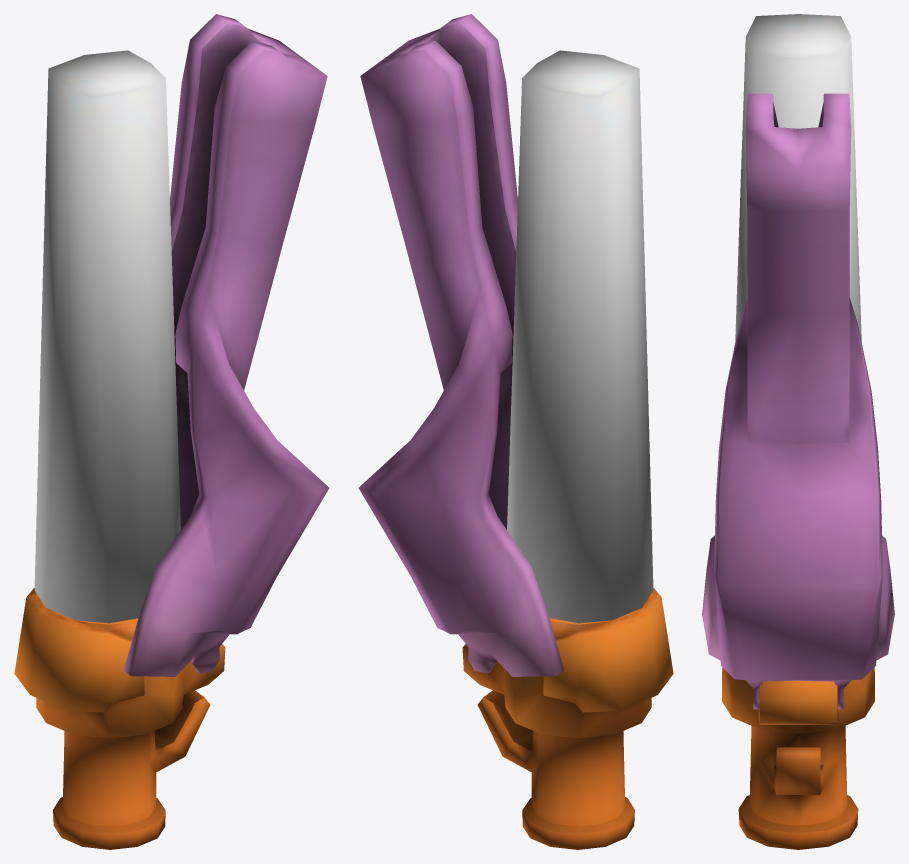
The model's file is safe_needle.fbx.
3 views of the same model, side by side, from view 1: azimuth 30°, elevation 25°; view 2: azimuth 150°, elevation 25°; view 3: azimuth 270°, elevation 25° (orthographic). The views are drawn at different scales.
Parts seen in each view (by area): view 1: Circle.007, Circle.008, Circle.006; view 2: Circle.007, Circle.008, Circle.006; view 3: Circle.007, Circle.006, Circle.008.
Boxes of the visible parts, x1=… form: Circle.007: x1=123, y1=14, x2=329, y2=676; Circle.008: x1=34, y1=50, x2=180, y2=623; Circle.006: x1=14, y1=588, x2=225, y2=849; Circle.007: x1=358, y1=14, x2=564, y2=676; Circle.008: x1=507, y1=50, x2=653, y2=623; Circle.006: x1=462, y1=588, x2=673, y2=849; Circle.007: x1=702, y1=93, x2=894, y2=709; Circle.006: x1=722, y1=667, x2=874, y2=849; Circle.008: x1=735, y1=14, x2=861, y2=341.
Bounding box in the file's own units: 1.04 × 2.79 × 0.607.
